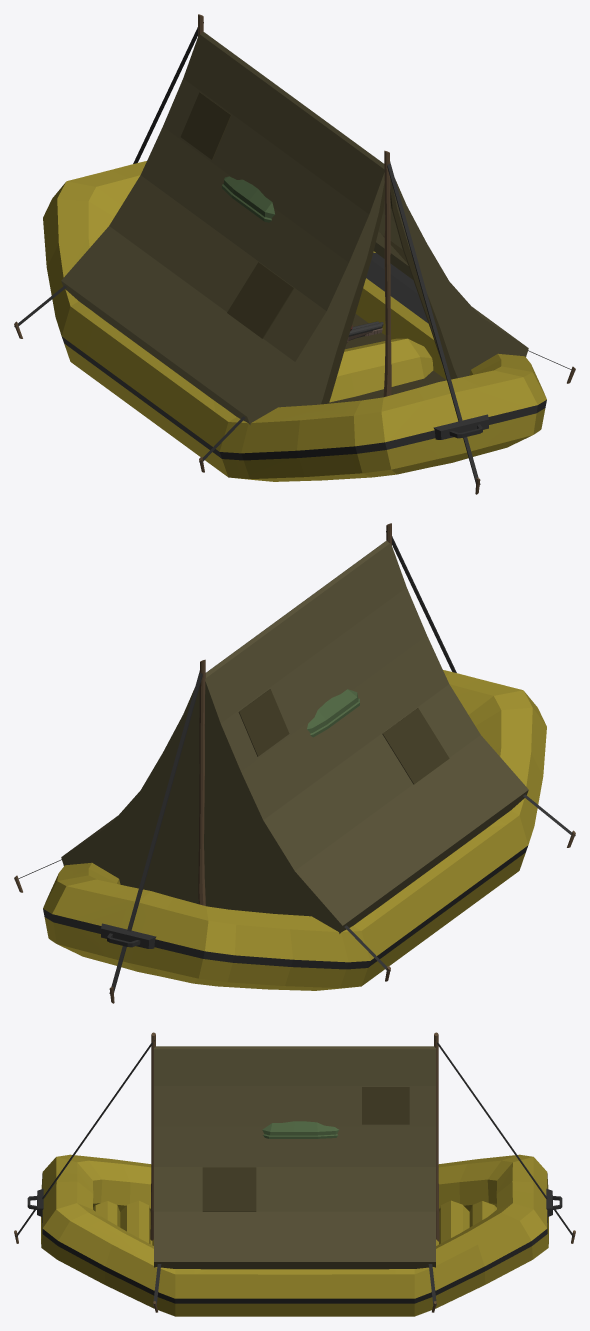
The model's file is sURVIVAL pACK.glb.
3 views of the same model, one above another, from view 1: azimuth 30°, elevation 25°; view 2: azimuth 150°, elevation 25°; view 3: azimuth 270°, elevation 25° (orthographic). The views are drawn at different scales.
Visible parts, largest first — view 1: Tent_Cylinder.020, Raft_Cube.004, Trashcan_Cube.066; view 2: Tent_Cylinder.020, Raft_Cube.004, Trashcan_Cube.066; view 3: Tent_Cylinder.020, Raft_Cube.004, Trashcan_Cube.066.
Part boxes in pixels (bbox=[...]): Tent_Cylinder.020: bbox=[14, 14, 575, 494]; Raft_Cube.004: bbox=[43, 161, 546, 481]; Trashcan_Cube.066: bbox=[222, 176, 274, 222]; Tent_Cylinder.020: bbox=[14, 523, 575, 1003]; Raft_Cube.004: bbox=[43, 670, 546, 990]; Trashcan_Cube.066: bbox=[307, 689, 359, 737]; Tent_Cylinder.020: bbox=[14, 1032, 575, 1312]; Raft_Cube.004: bbox=[27, 1154, 562, 1316]; Trashcan_Cube.066: bbox=[262, 1121, 338, 1138].
Size of the model in its own units: 14.58 by 12.23 by 24.87.
